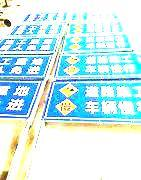sign: (49, 82, 141, 122), (57, 54, 140, 76), (64, 33, 133, 50), (1, 53, 47, 78), (1, 82, 34, 115), (1, 37, 55, 52), (11, 25, 59, 37), (72, 13, 120, 23), (23, 12, 63, 23), (70, 23, 123, 31)
